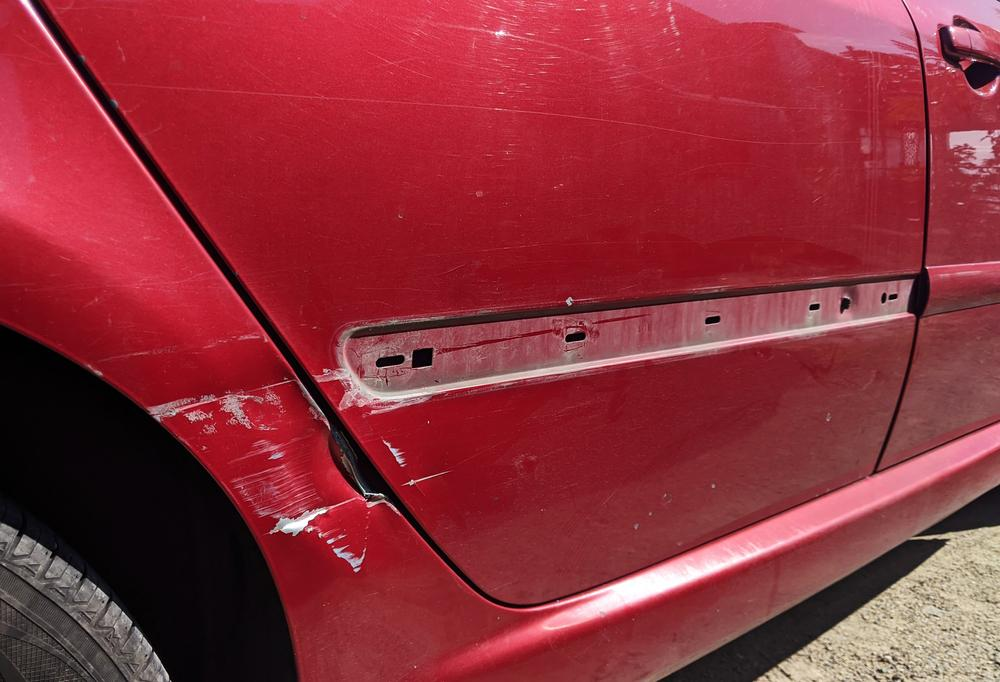scratch: (159, 377, 366, 563), (312, 361, 443, 492)
